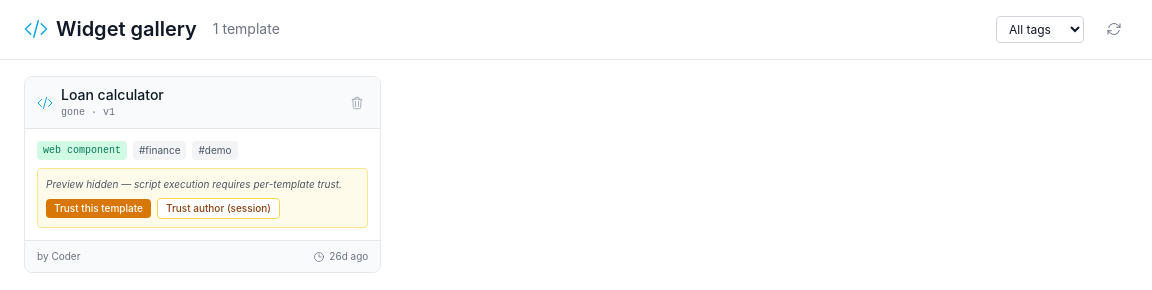
Test case: unshare › clicking a card's trash icon DELETEs the template and refreshes
The width and height of the screenshot is (1152, 290).
Expected: the number of elements with test id "gallery-card" is 1, x1=24 y1=76 x2=381 y2=273
Step 1. Click the button with test id "card-unshare" → (357, 102), box x1=346 y1=92 x2=368 y2=114
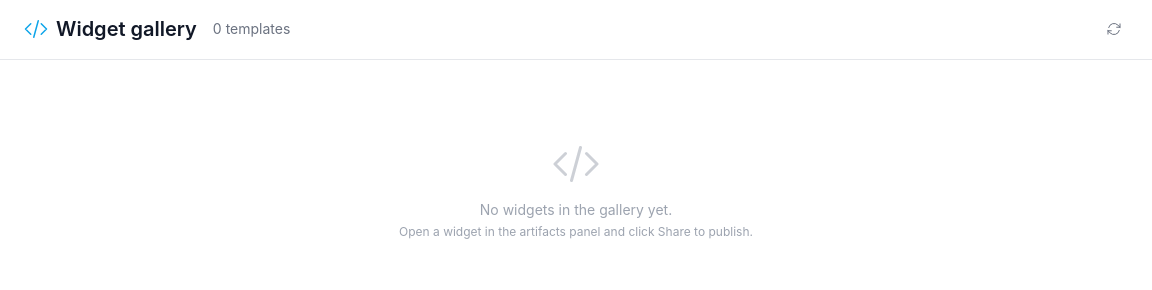
Expected: the element with test id "gallery-card" is gone
